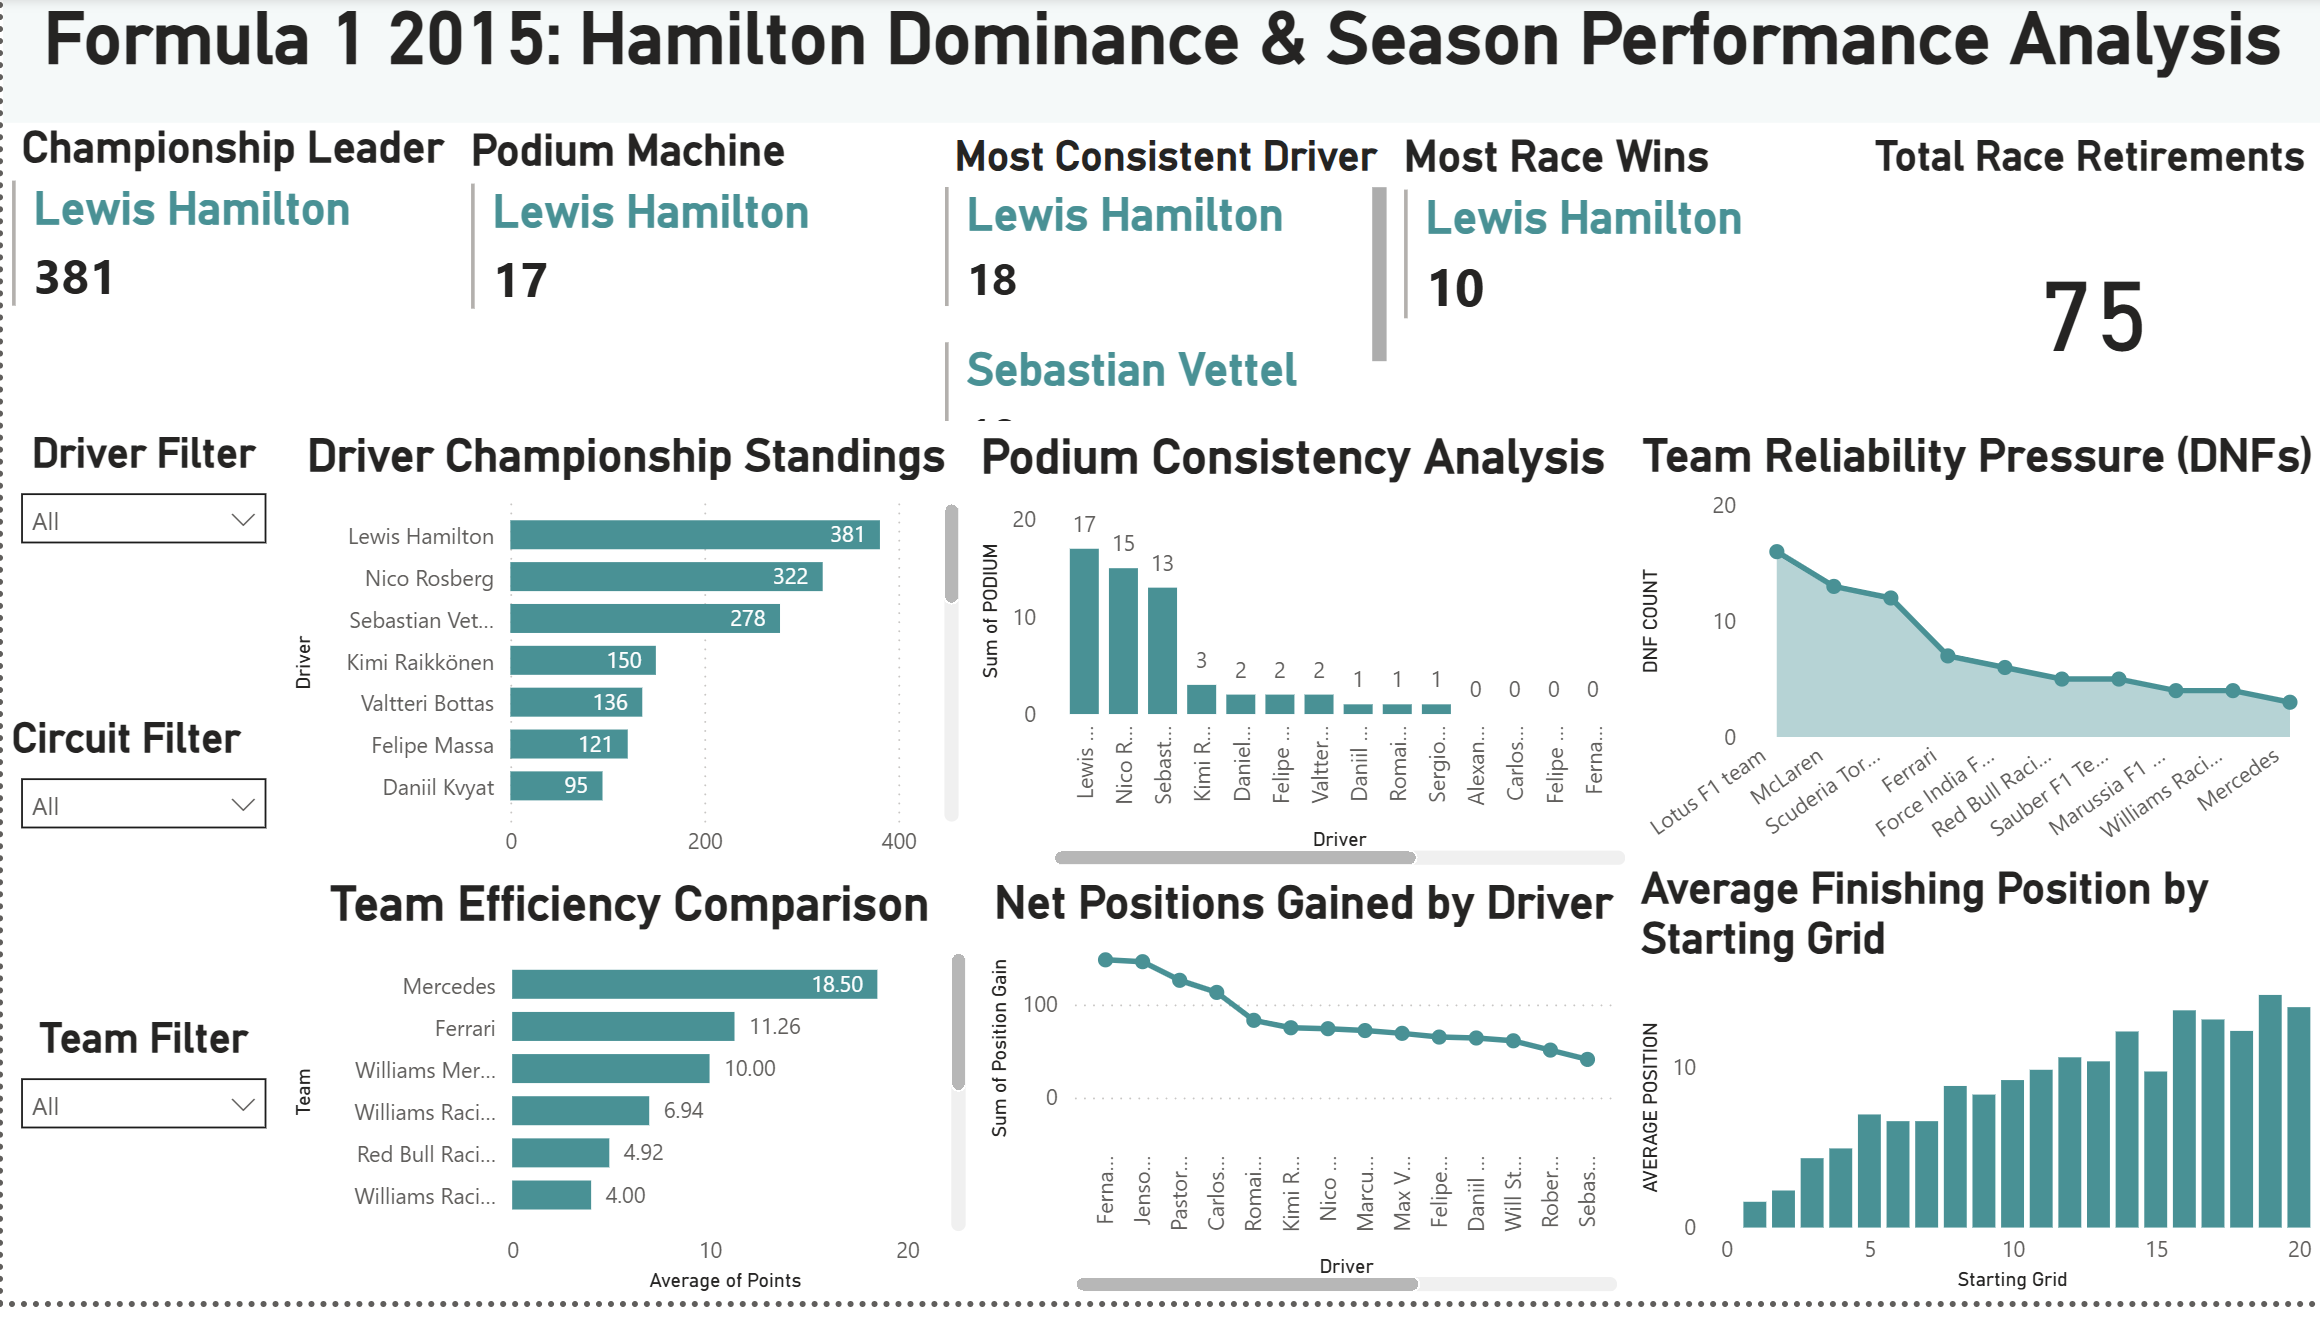

Layout of this report page (visuals, bound fields, positions):
{"tool":"powerbi","page":{"name":"Page 1","canvas":[1280,720],"ordinal":0},"visuals":[{"type":"multiRowCard","title":"Championship Leader ","fields":{"Values":["F1_2015.Driver","Sum(F1_2015.Points)"]},"box":[0,70.1,253.7,168.5],"z":0},{"type":"multiRowCard","title":"Most Consistent Driver","fields":{"Values":["Sum(F1_2015.ELITE FINISH TOP 5)","F1_2015.Driver"]},"box":[515,73.8,253.7,164.7],"z":1000},{"type":"multiRowCard","title":"Podium Machine","fields":{"Values":["F1_2015.Driver","Sum(F1_2015.PODIUM)"]},"box":[253.7,72,261.3,166.6],"z":2000},{"type":"multiRowCard","title":"Most Race Wins","fields":{"Values":["F1_2015.Driver","Sum(F1_2015.WIN)"]},"box":[768.8,73.8,259.4,164.7],"z":4000},{"type":"clusteredBarChart","title":"Team Efficiency Comparison","fields":{"Category":["F1_2015.Team"],"Y":["Avg(F1_2015.Points)"]},"box":[155.3,484.7,380.6,234.8],"z":5000},{"type":"lineChart","title":"Net Positions Gained by Driver","fields":{"Category":["F1_2015.Driver"],"Y":["Sum(F1_2015.Position Gain)"]},"box":[539.6,484.7,356,234.8],"z":6000},{"type":"card","title":"Total Race Retirements","fields":{"Values":["F1_2015.DNF COUNT"]},"box":[1028.2,73.8,251.8,164.7],"z":7000},{"type":"areaChart","title":"Team Reliability Pressure (DNFs)","fields":{"Category":["F1_2015.Team"],"Y":["F1_2015.DNF COUNT"]},"box":[899.4,238.6,380.6,240.5],"z":8000},{"type":"columnChart","title":"Podium Consistency Analysis","fields":{"Category":["F1_2015.Driver"],"Y":["Sum(F1_2015.PODIUM)"]},"box":[534,238.6,365.4,246.2],"z":9000},{"type":"columnChart","title":"Average Finishing Position by Starting Grid ","fields":{"Category":["F1_2015.Starting Grid"],"Y":["F1_2015.AVERAGE POSITION"]},"box":[899.4,479.1,380.6,240.5],"z":10000},{"type":"clusteredBarChart","title":"Driver Championship Standings","fields":{"Category":["F1_2015.Driver"],"Y":["Sum(F1_2015.Points)"]},"box":[155.3,238.6,376.8,246.2],"z":10001},{"type":"slicer","title":"Driver Filter","fields":{"Values":["F1_2015.Driver"]},"box":[0,238.6,155.3,157.2],"z":10002},{"type":"slicer","title":"Circuit Filter","fields":{"Values":["F1_2015.Track"]},"box":[0,395.7,155.3,164.7],"z":10003},{"type":"slicer","title":"Team Filter","fields":{"Values":["F1_2015.Team"]},"box":[0,560.5,155.3,159.1],"z":10004},{"type":"shape","title":"Formula 1 2015: Hamilton Dominance & Season Performance Analysis","box":[0,0,1280,70.1],"z":10005}]}

Visuals, with their boxes in screenshot pixels (x1, y1, x2, y2), scaled from the page's 1280x720 canvas onto the 2320x1322 screenshot:
"Championship Leader " multiRowCard: pyautogui.locateOnScreen(0, 129, 460, 438)
"Most Consistent Driver" multiRowCard: pyautogui.locateOnScreen(933, 136, 1393, 438)
"Podium Machine" multiRowCard: pyautogui.locateOnScreen(460, 132, 933, 438)
"Most Race Wins" multiRowCard: pyautogui.locateOnScreen(1393, 136, 1864, 438)
"Team Efficiency Comparison" clusteredBarChart: pyautogui.locateOnScreen(281, 890, 971, 1321)
"Net Positions Gained by Driver" lineChart: pyautogui.locateOnScreen(978, 890, 1623, 1321)
"Total Race Retirements" card: pyautogui.locateOnScreen(1864, 136, 2319, 438)
"Team Reliability Pressure (DNFs)" areaChart: pyautogui.locateOnScreen(1630, 438, 2319, 880)
"Podium Consistency Analysis" columnChart: pyautogui.locateOnScreen(968, 438, 1630, 890)
"Average Finishing Position by Starting Grid " columnChart: pyautogui.locateOnScreen(1630, 880, 2319, 1321)
"Driver Championship Standings" clusteredBarChart: pyautogui.locateOnScreen(281, 438, 964, 890)
"Driver Filter" slicer: pyautogui.locateOnScreen(0, 438, 281, 727)
"Circuit Filter" slicer: pyautogui.locateOnScreen(0, 727, 281, 1029)
"Team Filter" slicer: pyautogui.locateOnScreen(0, 1029, 281, 1321)
"Formula 1 2015: Hamilton Dominance & Season Performance Analysis" shape: pyautogui.locateOnScreen(0, 0, 2319, 129)
